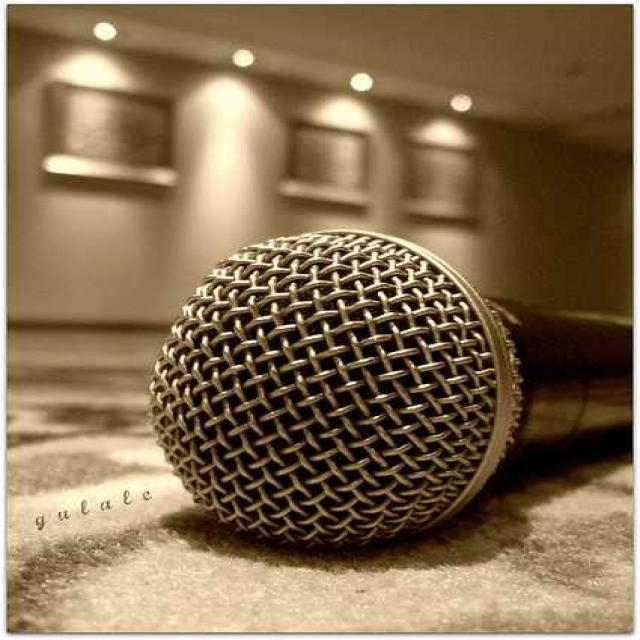microphone: (131, 196, 638, 624)
